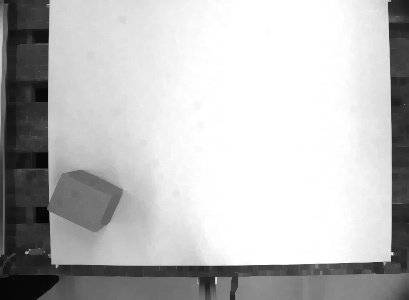b5: (44, 167, 125, 233)
